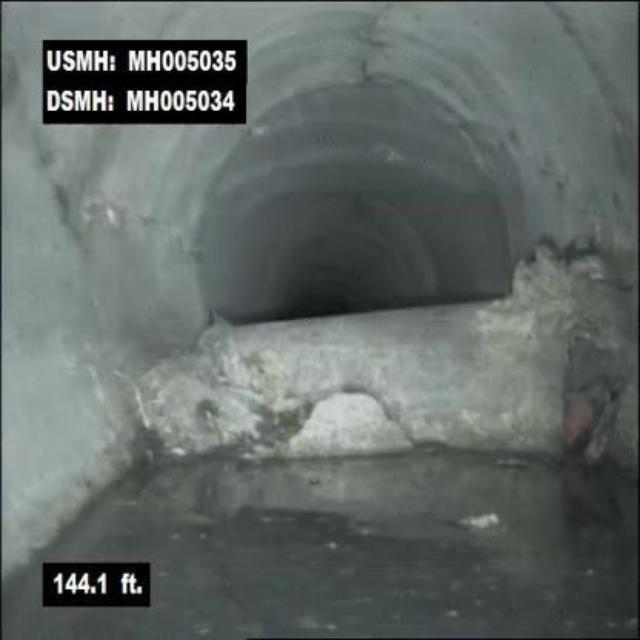Crack: (552, 6, 629, 129)
Utility intrusion: (152, 271, 638, 471)
